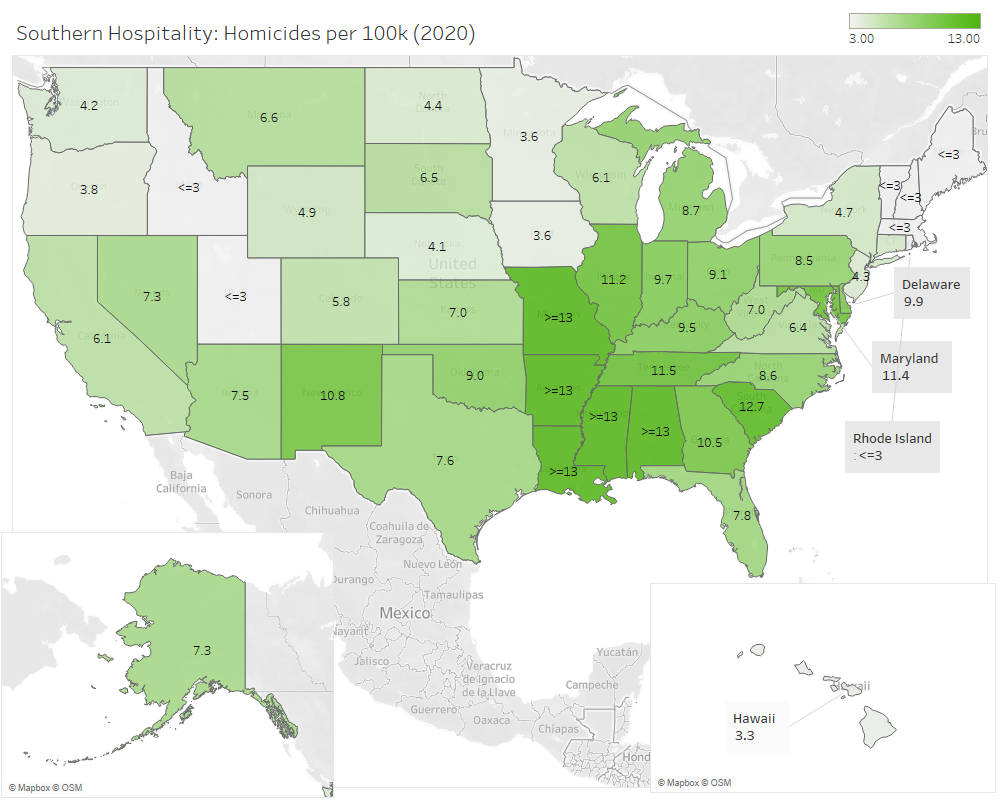

The page's visual inventory and layout, read from the dashboard file:
{"tool":"tableau","page":{"name":"Deceptive","canvas":[1000,800],"ordinal":0},"visuals":[{"type":"worksheet","title":"Southern Hospitality: Homicides per 100k (2020)","mark":"Multipolygon","box":[8,8,984,784]},{"type":"legend","title":"Southern Hospitality: Homicides per 100k (2020)","param":"[federated.09fihx51a9v56z1584d8q0ivzfdu].[sum:pooled_rate:qk]","box":[845,9,140,43]},{"type":"worksheet","title":"Dec(AK)","mark":"Multipolygon","box":[1,532,333,266]},{"type":"worksheet","title":"Dec(HI)","mark":"Multipolygon","box":[650,583,346,210]}]}

Visuals, with their boxes in screenshot pixels (x1, y1, x2, y2), scaled from the page's 1000x800 canvas onto the 1000x800 screenshot:
"Southern Hospitality: Homicides per 100k (2020)" worksheet (Multipolygon marks): (8,8,992,792)
"Southern Hospitality: Homicides per 100k (2020)" legend: (845,9,985,52)
"Dec(AK)" worksheet (Multipolygon marks): (1,532,334,798)
"Dec(HI)" worksheet (Multipolygon marks): (650,583,996,793)
